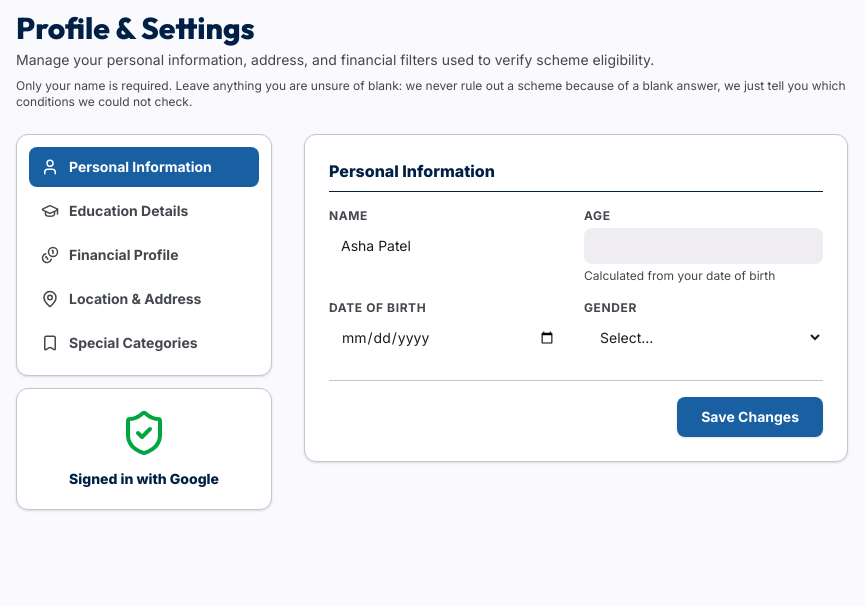
Test: Profile form: when the save fails › shows a generic message for an unexpected error instead of failing silently
The width and height of the screenshot is (865, 606).
Click the button "Save Changes": (750, 417) [677,397,823,437]
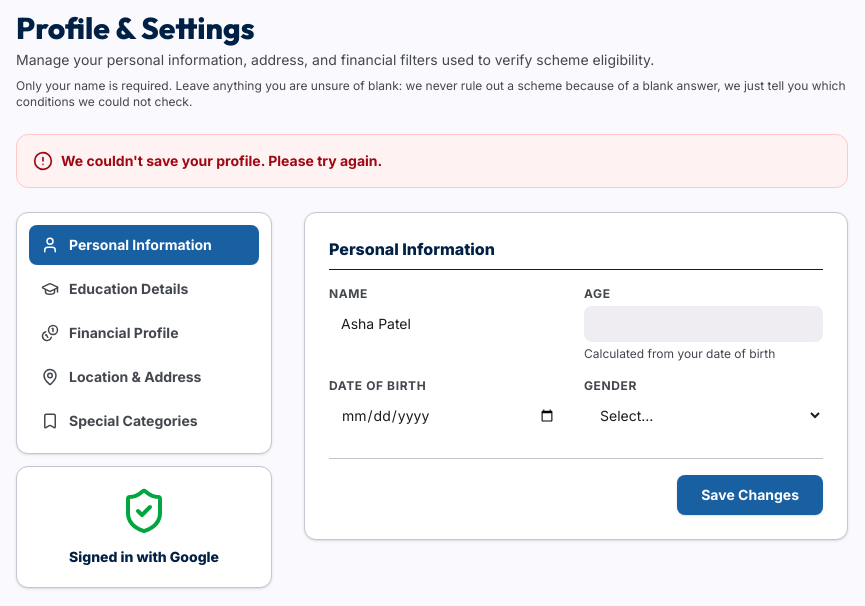
expect the message reads "We couldn't save your profile. Please try again.": met, box [61,152,382,169]
